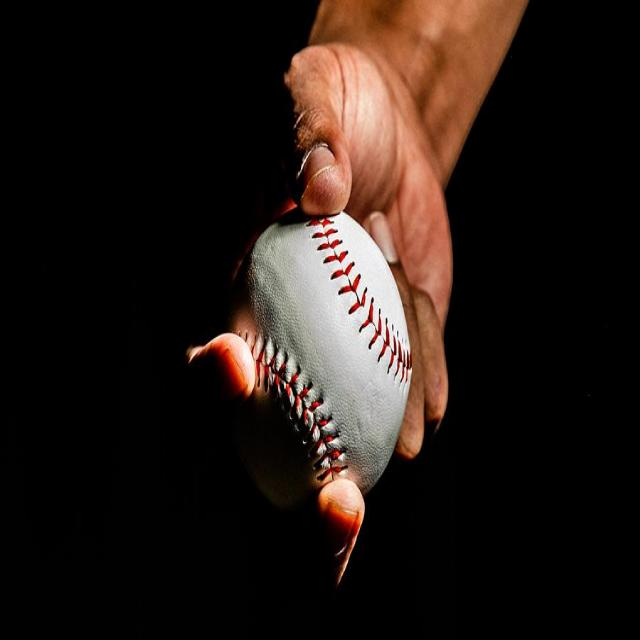baseball: (228, 204, 412, 499)
